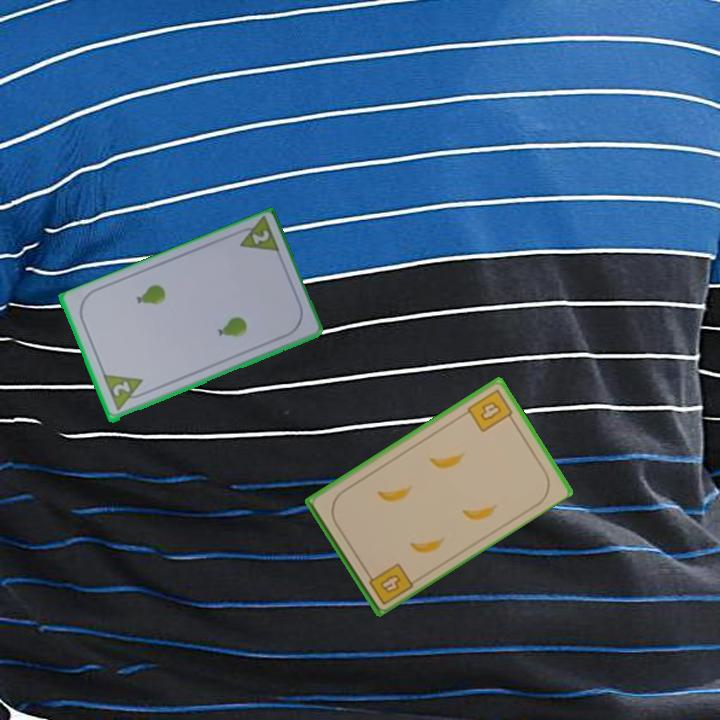2p: (109, 378, 133, 400), (248, 227, 272, 248)
4b: (464, 385, 517, 435), (362, 559, 416, 608)
